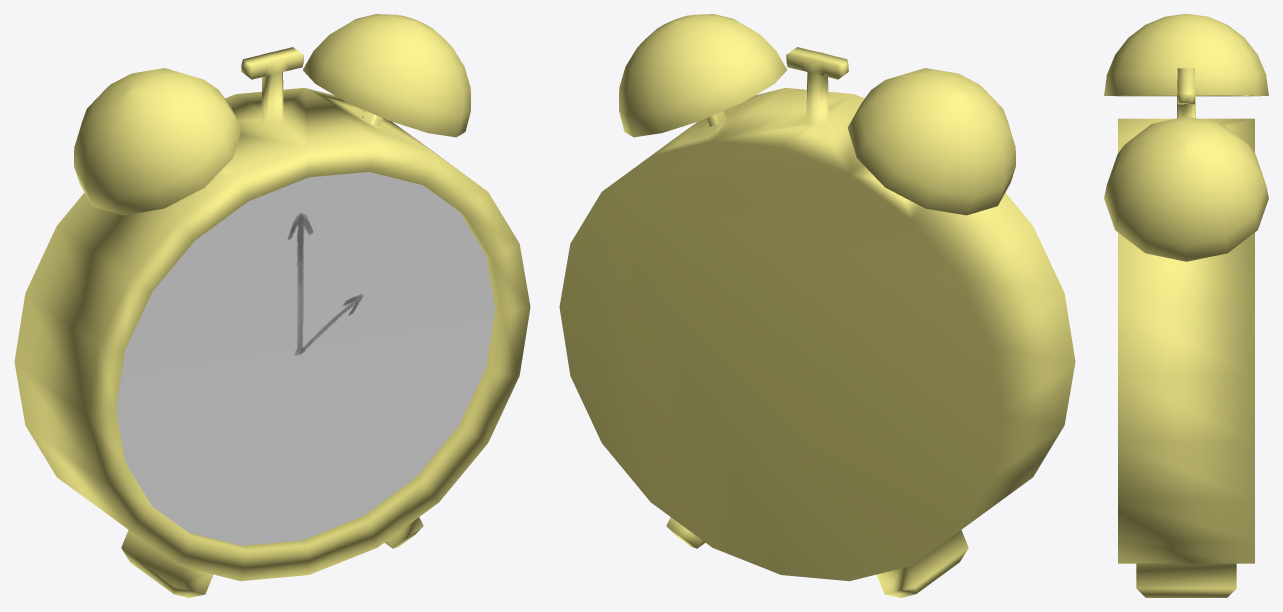
Rendered from Clock_Bedroom_01.fbx.
The picture shows the model from 3 angles, left to right: view 1: azimuth 30°, elevation 25°; view 2: azimuth 150°, elevation 25°; view 3: azimuth 270°, elevation 25°; orthographic projection. The views are drawn at different scales.
Parts seen in each view (by area): view 1: Base_01, HalfSphere_01, HalfSphere_02; view 2: Base_01, HalfSphere_01, HalfSphere_02; view 3: Base_01, HalfSphere_02, HalfSphere_01.
Part boxes in pixels (x1,y1,x2,y2): Base_01: (14,47,530,597); HalfSphere_01: (74,68,242,215); HalfSphere_02: (303,14,470,137); Base_01: (559,47,1075,597); HalfSphere_01: (847,68,1015,215); HalfSphere_02: (619,14,786,137); Base_01: (1118,68,1254,597); HalfSphere_02: (1104,116,1268,261); HalfSphere_01: (1104,14,1268,96).
Size of the model in its own units: 7.82 by 8.55 by 2.68.
